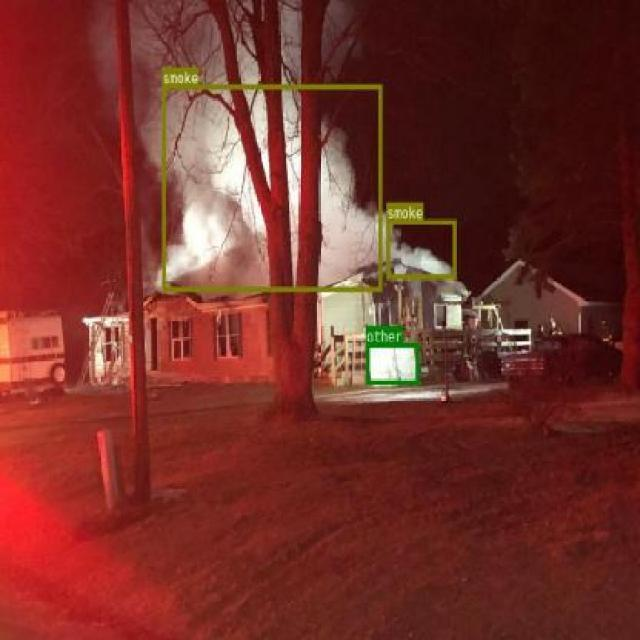Smoke: (161, 84, 381, 292), (386, 218, 456, 278)
